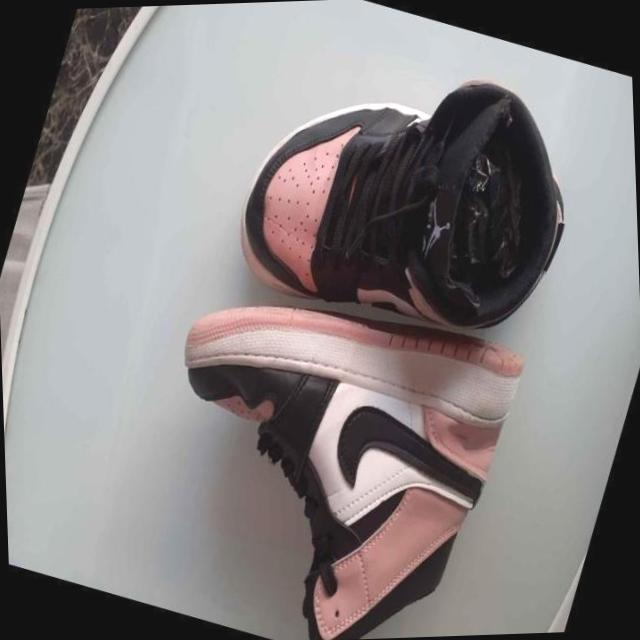nike_fake_jordan: (101, 258, 552, 640), (215, 16, 606, 370)
